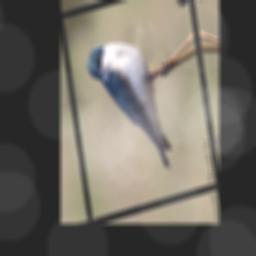Swallow: (84, 28, 175, 190)
